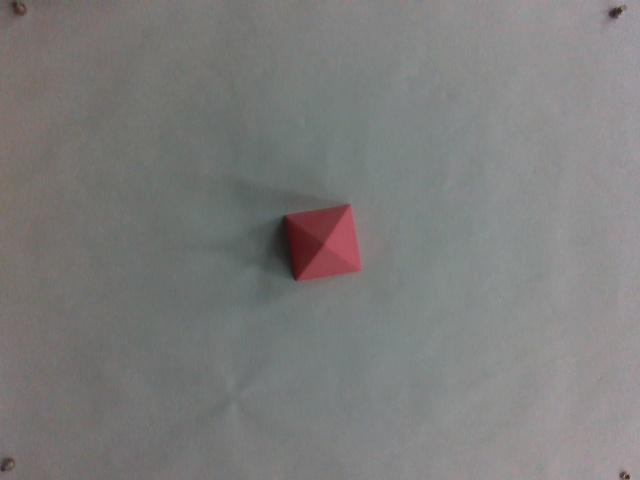pyramid: (280, 200, 364, 283)
